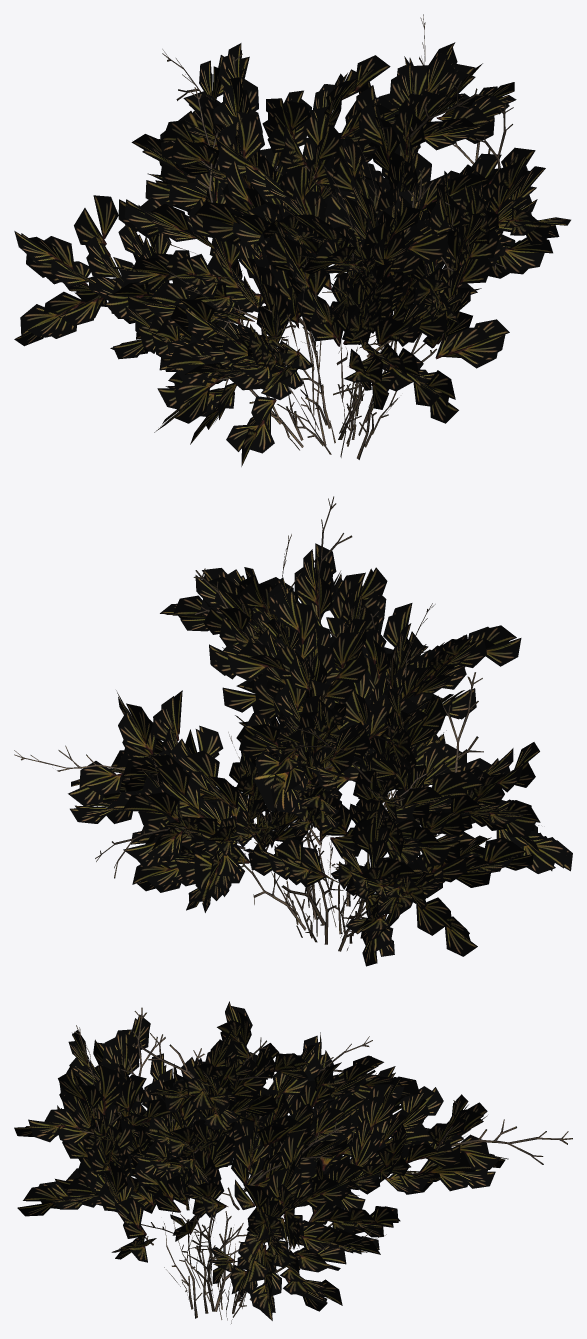
The model's file is bush.glb.
The picture shows the model from 3 angles, top to bottom: view 1: azimuth 30°, elevation 25°; view 2: azimuth 150°, elevation 25°; view 3: azimuth 270°, elevation 25°; orthographic projection. The views are drawn at different scales.
Visible parts, largest first — view 1: wild_rooibos_bush_a; view 2: wild_rooibos_bush_a; view 3: wild_rooibos_bush_a.
Part boxes in pixels (x1=…): wild_rooibos_bush_a: x1=14, y1=14, x2=570, y2=466; wild_rooibos_bush_a: x1=14, y1=496, x2=572, y2=966; wild_rooibos_bush_a: x1=14, y1=1001, x2=572, y2=1323.
Bounding box in the file's own units: 0.6966 × 0.539 × 0.8434.
3 materials, 3 textured.
